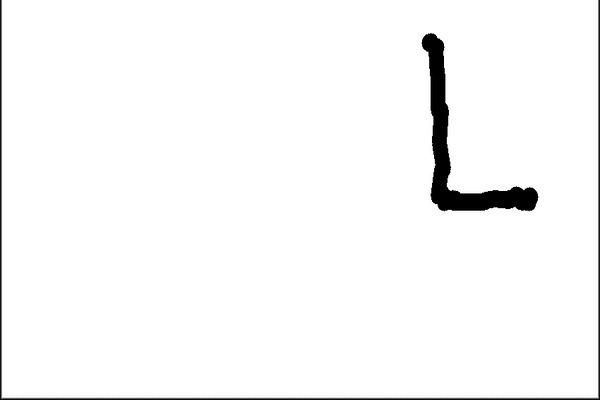L: (414, 22, 542, 221)
